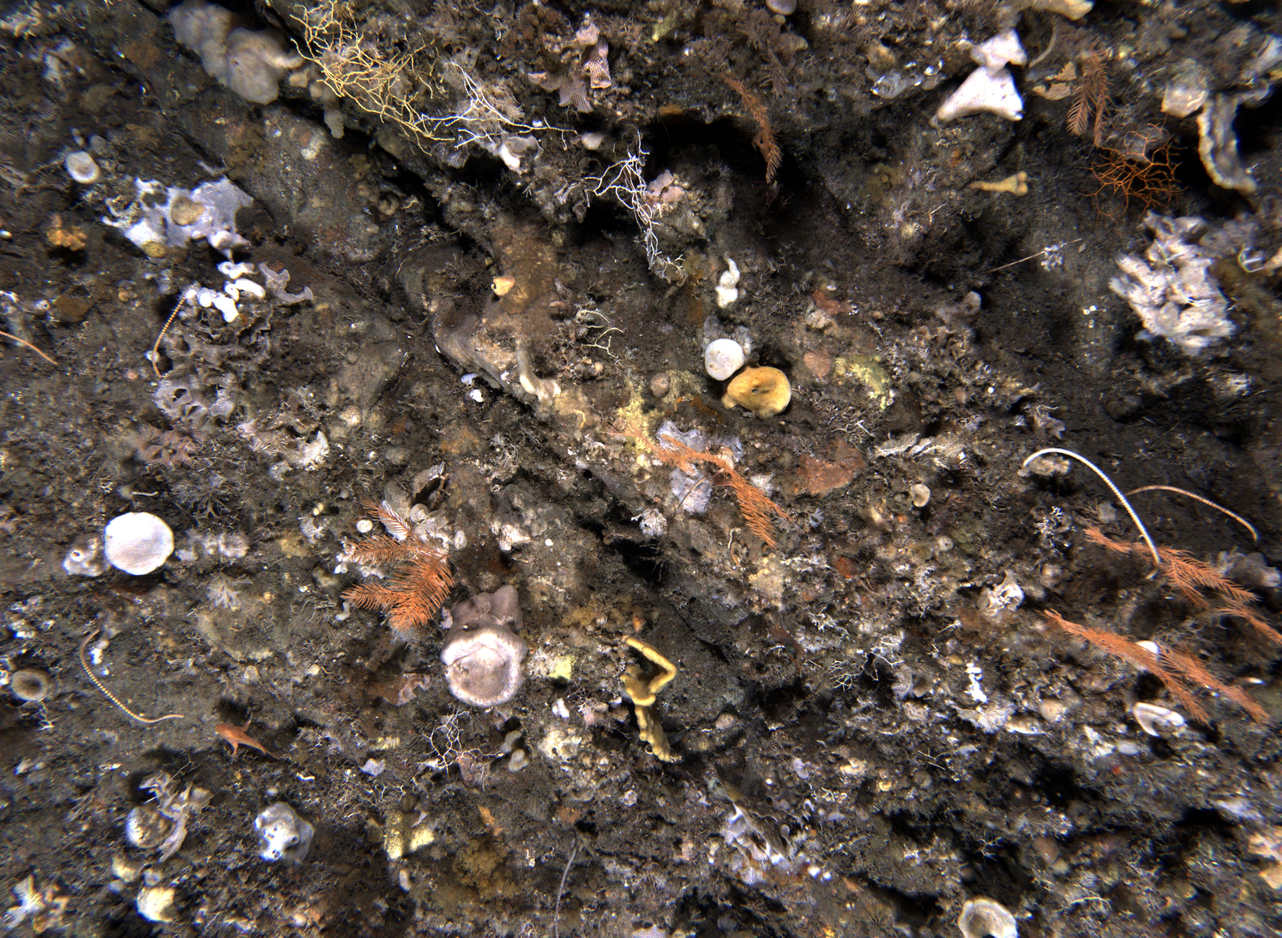Brachionichthyidae: (214, 711, 282, 762)
